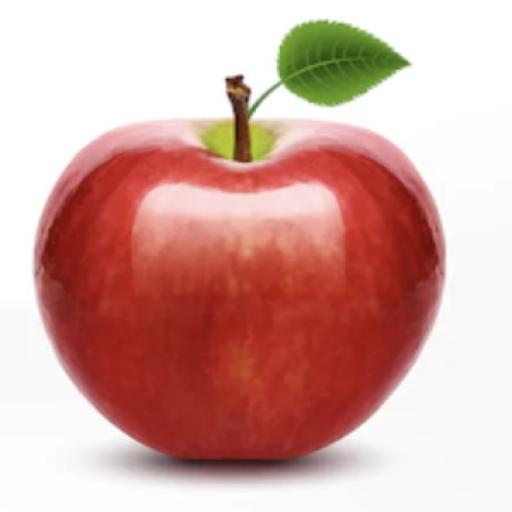apple: (36, 120, 444, 459)
